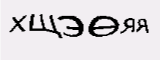Е: (47, 22, 60, 42)
З: (60, 22, 69, 45)
О: (81, 15, 110, 46)
С: (37, 20, 49, 42)
Х: (68, 21, 84, 45)
